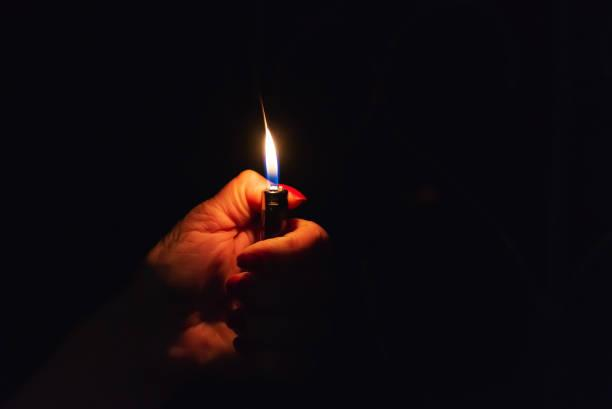Fire: (261, 97, 289, 189)
